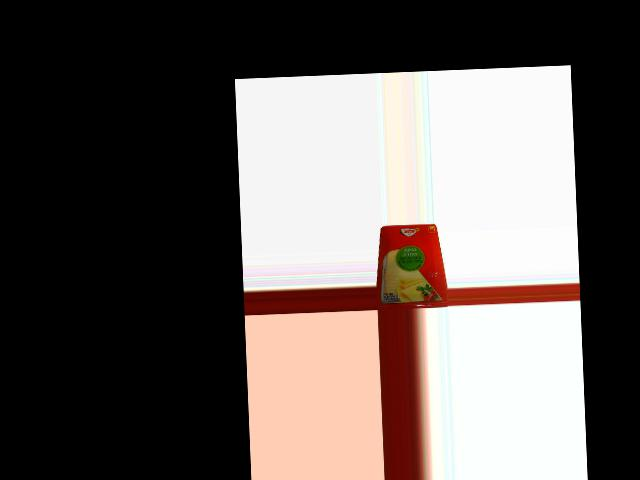cheese: (375, 223, 449, 310)
